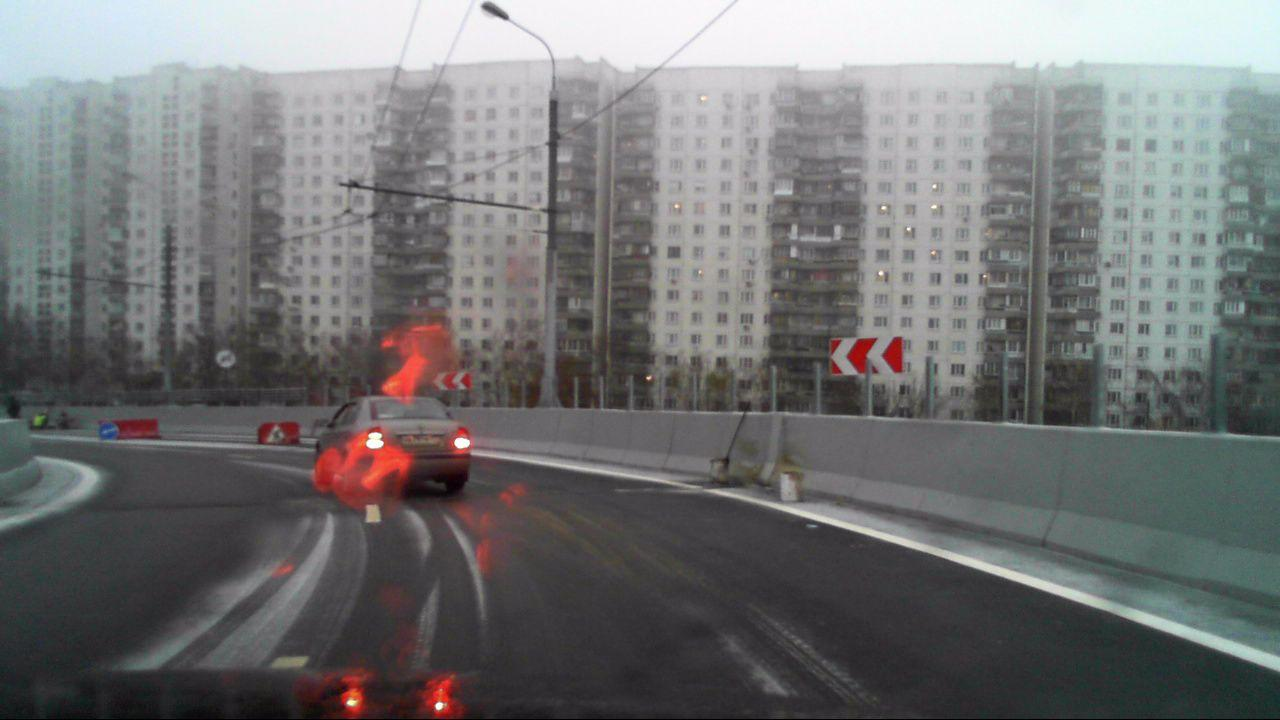1_25: (266, 421, 290, 445)
1_34_2: (827, 334, 904, 377), (429, 367, 473, 391)
3_25: (215, 347, 236, 368)
4_2_2: (99, 422, 120, 440)
